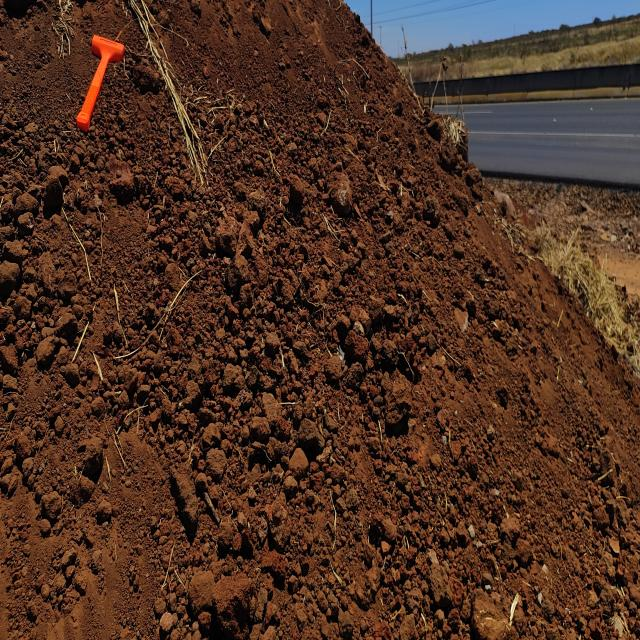Orange_hammer: (76, 32, 125, 132)
rock: (208, 563, 258, 636), (169, 452, 200, 524), (472, 589, 509, 640), (105, 156, 136, 210), (258, 546, 290, 594), (343, 322, 372, 373), (216, 208, 240, 268), (44, 162, 69, 214), (284, 170, 307, 214), (0, 251, 19, 297), (82, 439, 105, 474)
